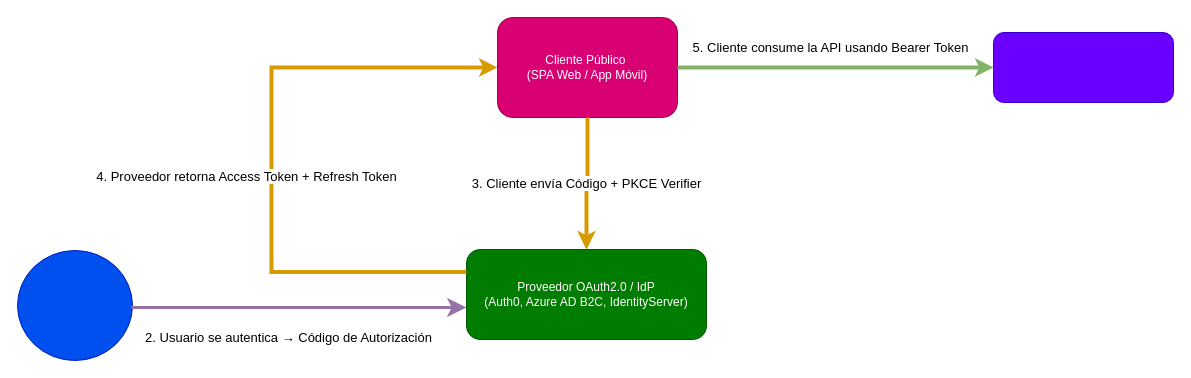
This 1191x378 diagram has some shape labels left out. The shapes that lost their labels are listed below. From the top down, each one's centre as x and y in pixels, then its label:
At point (1083, 67): "API Protegida / Recursos".
At point (74, 305): "Usuario Final".
